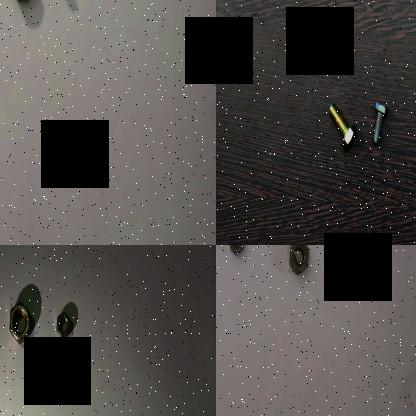Bolts: (324, 94, 358, 154), (369, 96, 391, 148)
NUTS: (6, 296, 36, 344), (285, 245, 315, 277), (54, 312, 74, 342), (225, 245, 247, 259)
